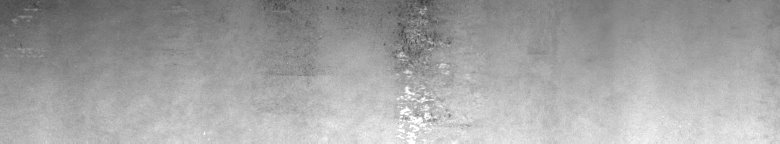hc: (327, 4, 451, 125)
